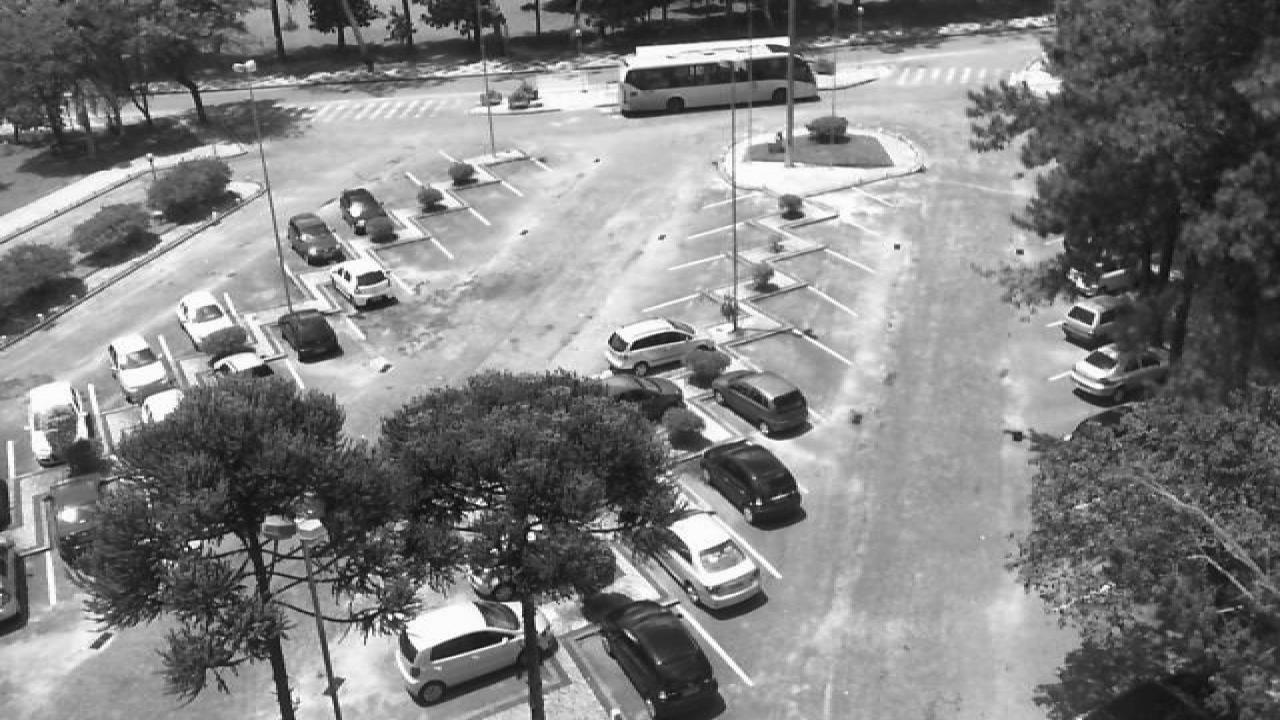Car: (394, 580, 558, 704), (582, 592, 724, 720), (650, 512, 766, 608), (700, 443, 806, 528), (710, 371, 810, 436), (1068, 341, 1170, 403), (46, 471, 112, 557), (604, 317, 696, 375), (24, 380, 84, 456), (600, 371, 686, 421), (1060, 294, 1134, 347), (104, 336, 170, 394), (328, 256, 396, 308), (174, 290, 234, 344), (280, 310, 342, 362), (286, 212, 344, 264), (338, 188, 386, 238), (138, 387, 198, 427), (1072, 402, 1140, 437), (210, 351, 274, 378)
